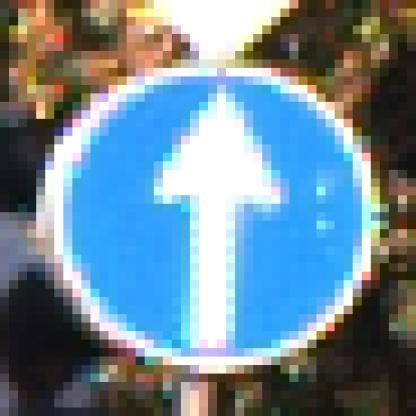straight: (18, 59, 398, 382)
